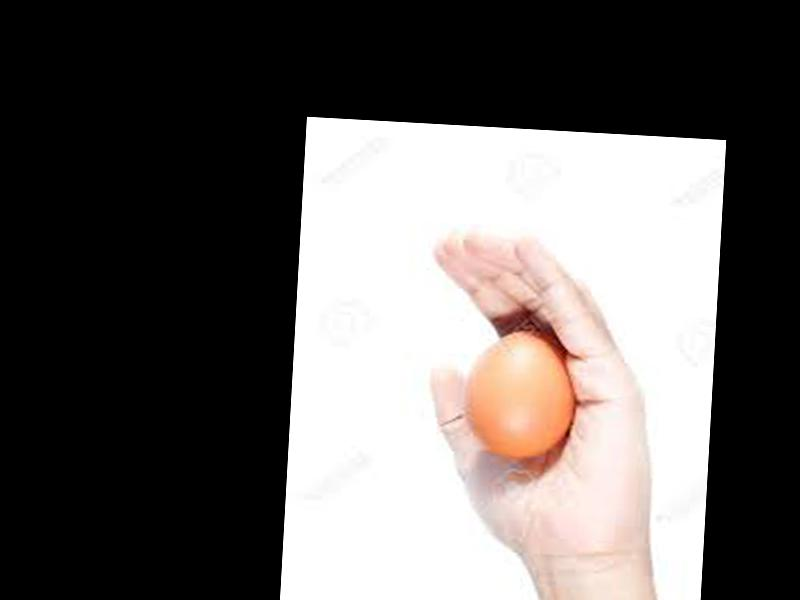Eggs: (463, 330, 575, 460)
